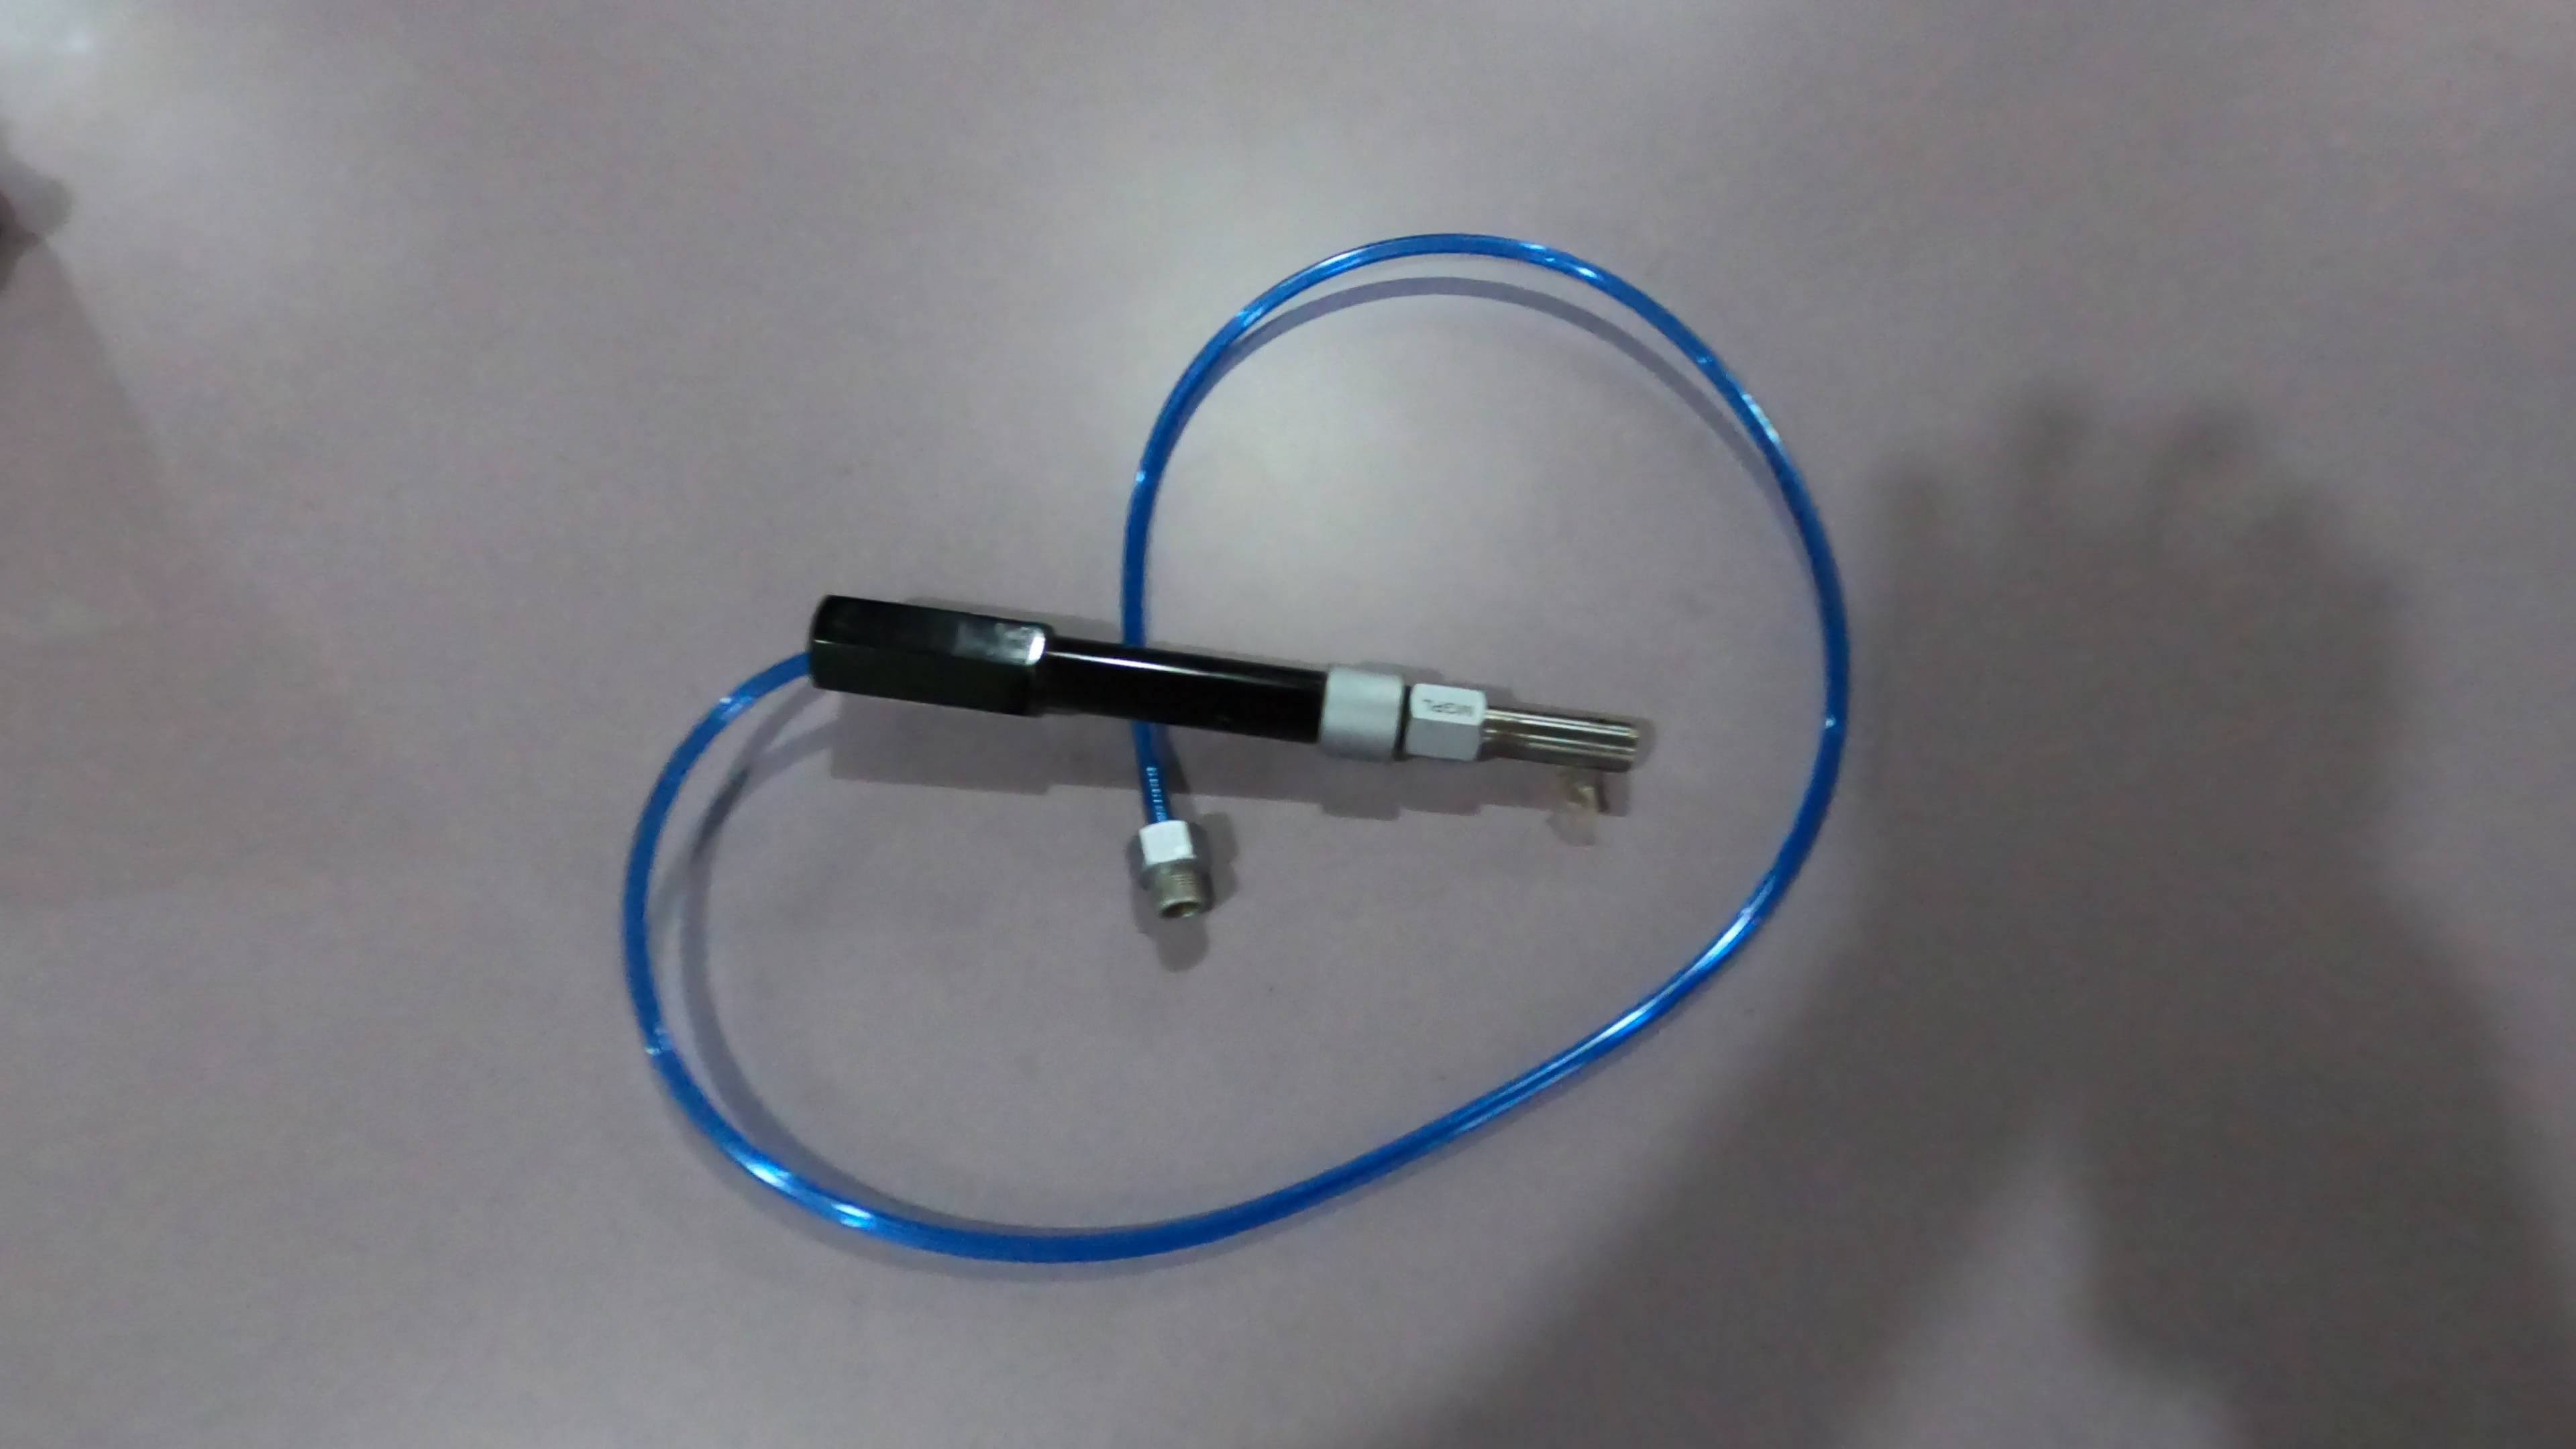air_gauge: (801, 582, 1649, 819)
